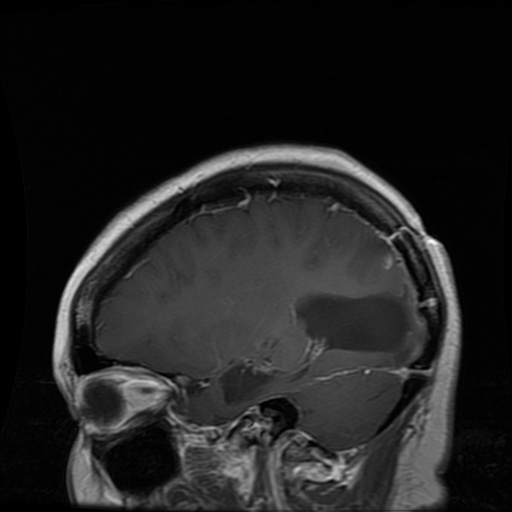glioma: (217, 292, 411, 402)
